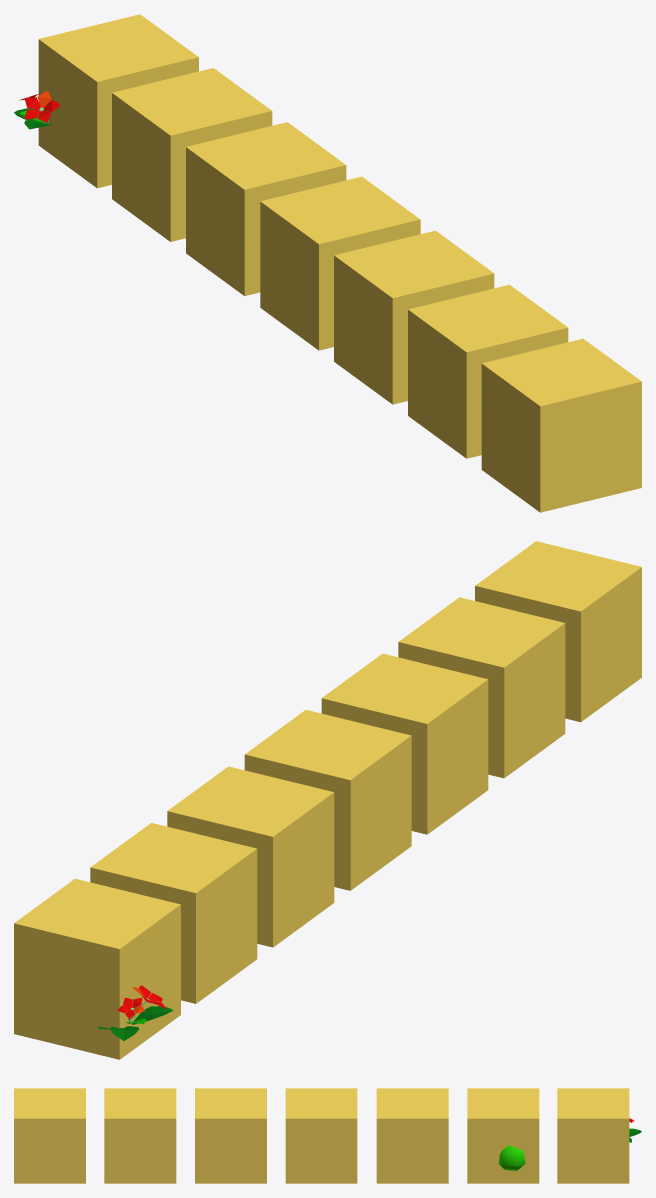
The model's file is shoplayout mit ani.fbx.
The picture shows the model from 3 angles, top to bottom: view 1: azimuth 30°, elevation 25°; view 2: azimuth 150°, elevation 25°; view 3: azimuth 270°, elevation 25°; orthographic projection. The views are drawn at different scales.
Visible parts, largest first — view 1: Würfel.006, Würfel.001, Würfel.003, Würfel.002, Würfel, Würfel.005, Würfel.004, Cube.001; view 2: Würfel.004, Würfel, Würfel.001, Würfel.005, Würfel.002, Würfel.006, Würfel.003, Cube.001; view 3: Würfel, Würfel.001, Würfel.004, Würfel.005, Würfel.002, Würfel.006, Würfel.003, Fantasy Bush 1.
Part boxes in pixels (left/top/right/bottom): Würfel.006: left=481, top=338, right=641, bottom=512; Würfel.001: left=186, top=122, right=346, bottom=296; Würfel.003: left=112, top=68, right=272, bottom=241; Würfel.002: left=334, top=230, right=494, bottom=404; Würfel: left=260, top=176, right=420, bottom=350; Würfel.005: left=408, top=284, right=568, bottom=458; Würfel.004: left=38, top=14, right=198, bottom=188; Cube.001: left=14, top=91, right=59, bottom=129; Würfel.004: left=14, top=878, right=180, bottom=1059; Würfel: left=244, top=710, right=411, bottom=890; Würfel.001: left=167, top=766, right=334, bottom=947; Würfel.005: left=398, top=597, right=565, bottom=778; Würfel.002: left=321, top=653, right=488, bottom=834; Würfel.006: left=475, top=541, right=641, bottom=722; Würfel.003: left=90, top=823, right=257, bottom=1003; Cube.001: left=98, top=985, right=172, bottom=1040; Würfel: left=285, top=1088, right=357, bottom=1183; Würfel.001: left=376, top=1088, right=448, bottom=1183; Würfel.004: left=557, top=1088, right=629, bottom=1183; Würfel.005: left=104, top=1088, right=176, bottom=1183; Würfel.002: left=195, top=1088, right=266, bottom=1183; Würfel.006: left=14, top=1088, right=85, bottom=1183; Würfel.003: left=467, top=1088, right=539, bottom=1183; Fantasy Bush 1: left=498, top=1145, right=525, bottom=1170.
Bounding box in the file's own units: 545 × 399 × 3481.
